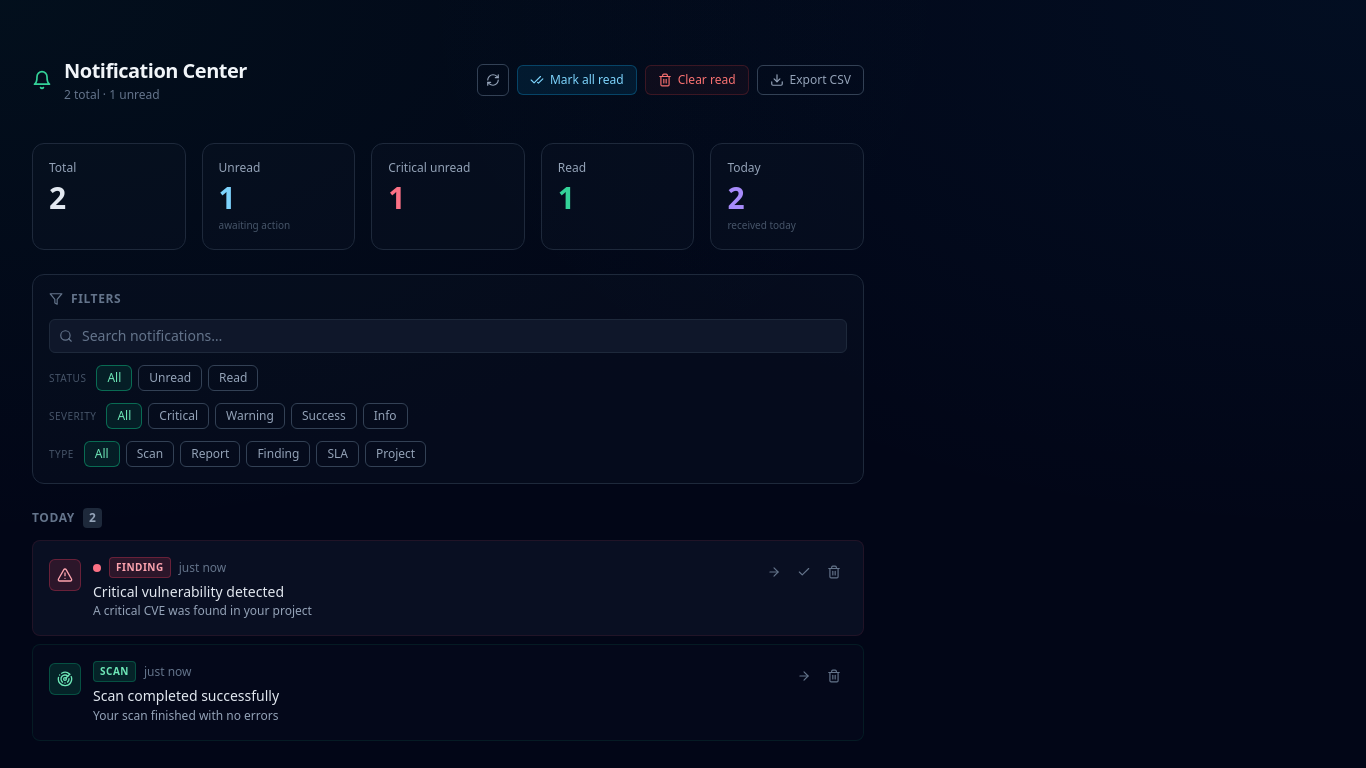
Test case: Notifications — type filter › type "Scan" filter shows only scan_completed notifications
Expected: the text "Critical vulnerability detected" is shown, [93, 582, 284, 601]
Click the button "Scan": (150, 454) [126, 441, 174, 467]
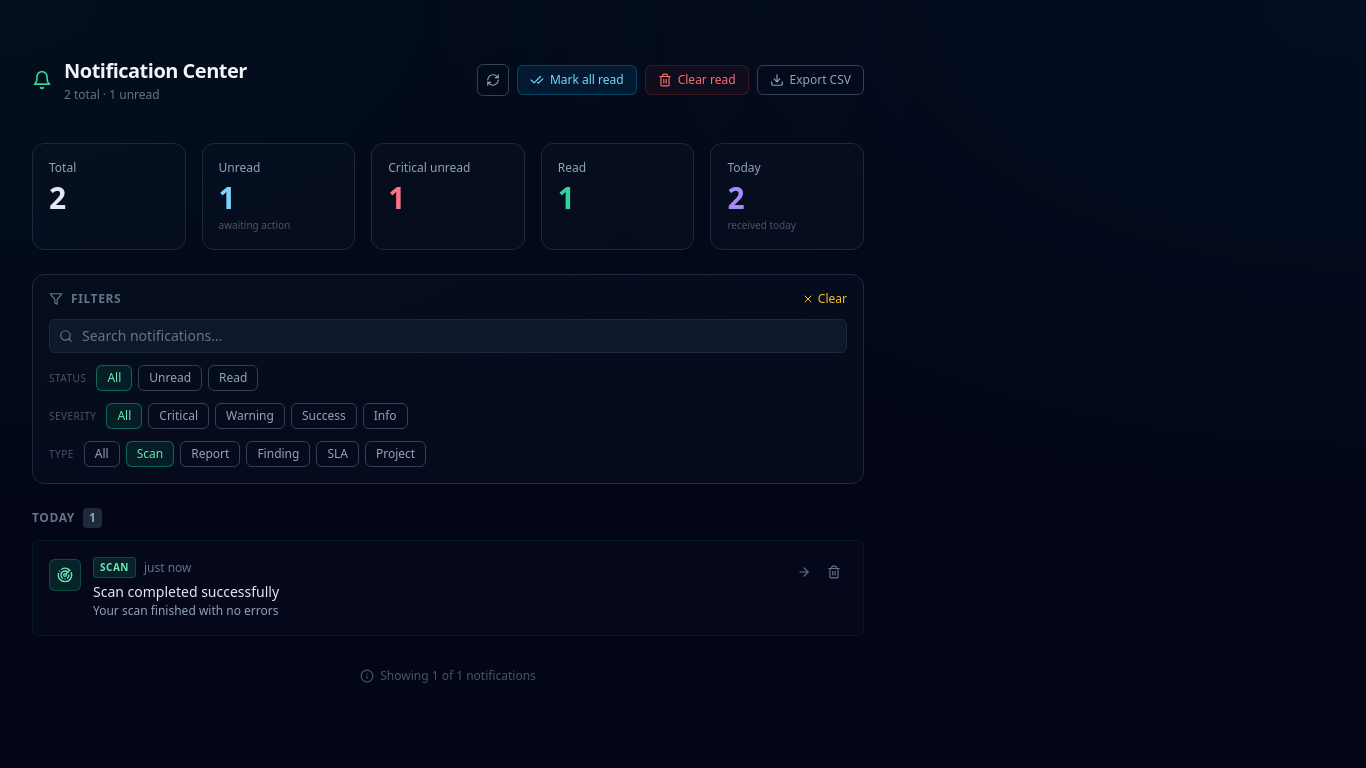
Expected: the text "Scan completed successfully" is shown, [93, 582, 279, 601]
Result: the text "Critical vulnerability detected" is gone
